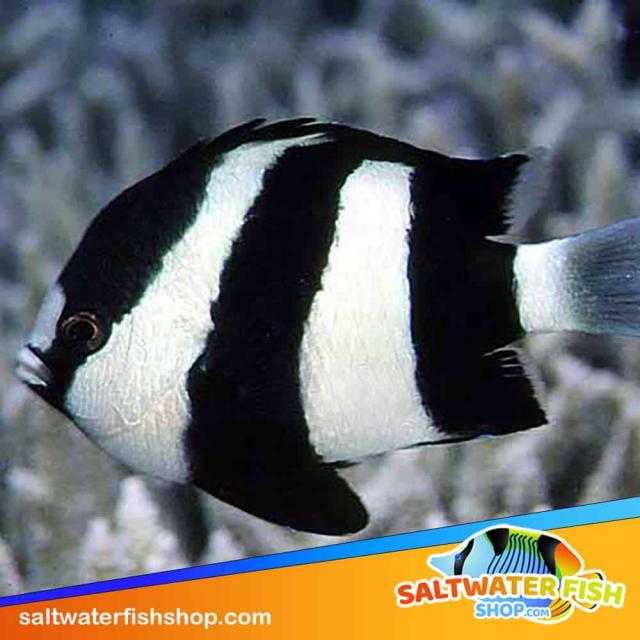ThreeStripedDamselfish: (8, 117, 638, 535)
